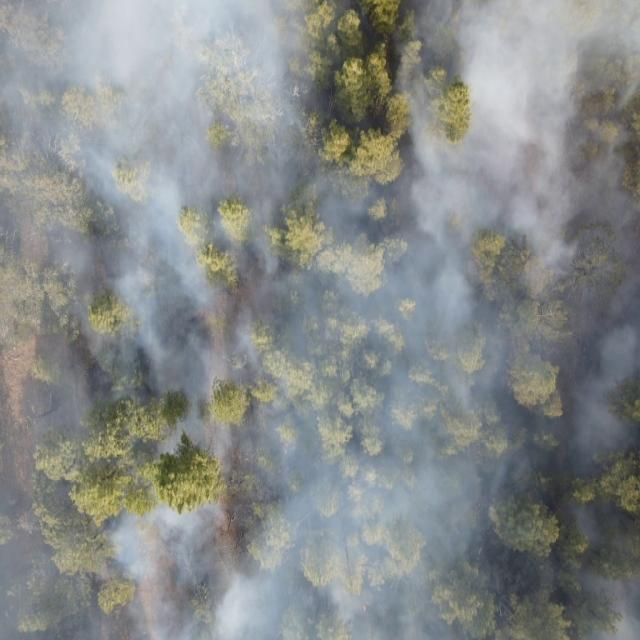fire: (360, 602, 369, 617)
